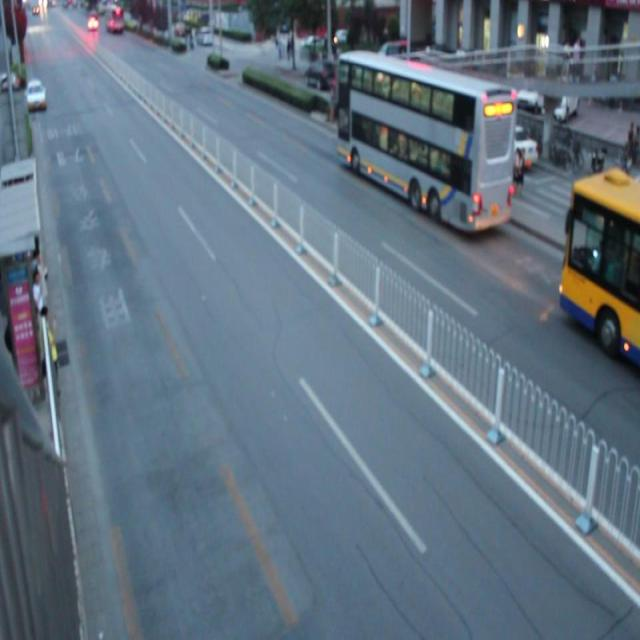van: (336, 53, 513, 233), (560, 176, 640, 367)
